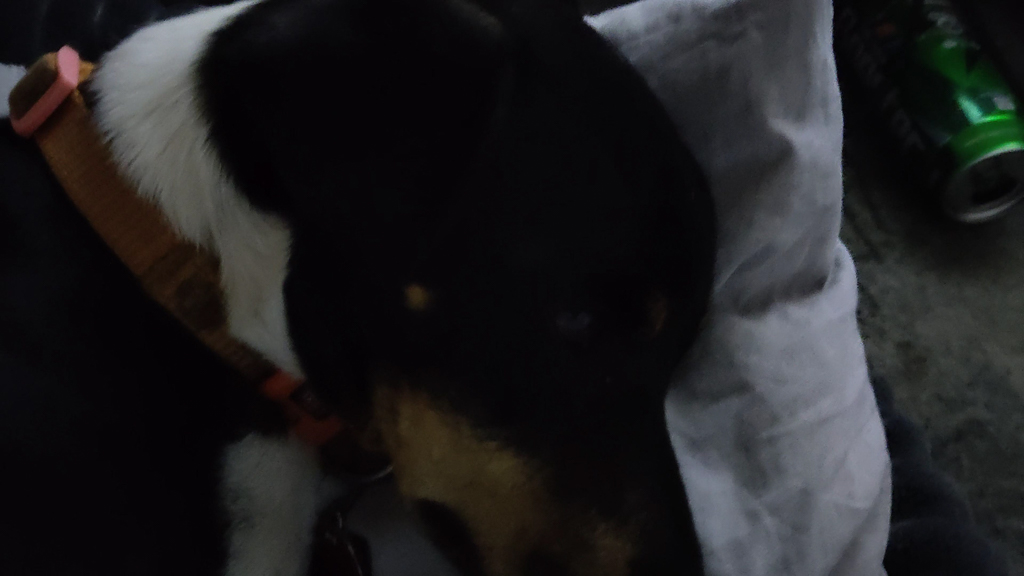Dog: (0, 0, 735, 576)
